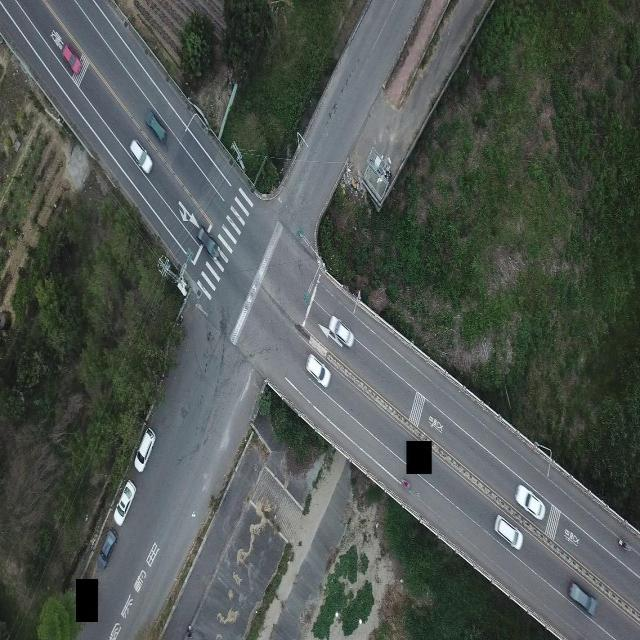bike: (617, 532, 630, 550), (399, 479, 408, 489)
car: (516, 484, 546, 521), (567, 578, 596, 616), (495, 514, 522, 550), (114, 481, 136, 525), (134, 429, 155, 473), (306, 353, 329, 389), (62, 41, 85, 77), (328, 315, 353, 347), (130, 138, 152, 173), (196, 228, 218, 262), (99, 527, 117, 567), (147, 113, 167, 143)
